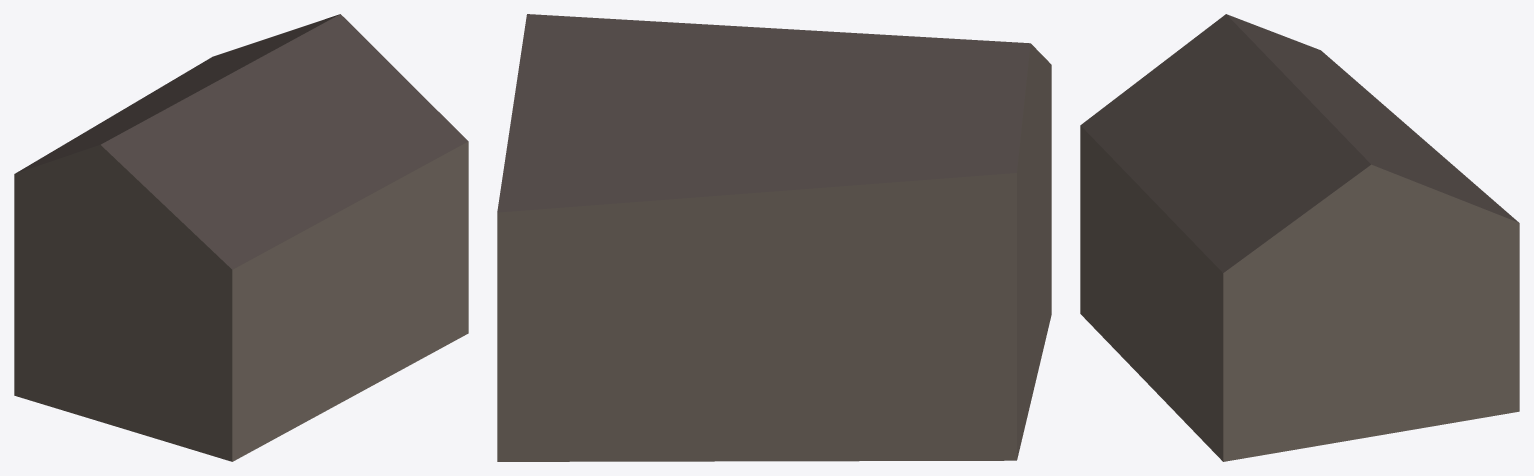
3 renders of one model, left to right at view 1: azimuth 30°, elevation 25°; view 2: azimuth 150°, elevation 25°; view 3: azimuth 270°, elevation 25°, orthographic. The views are drawn at different scales.
Visible parts, largest first — view 1: HP-w1515076953; view 2: HP-w1515076953; view 3: HP-w1515076953.
Part boxes in pixels (box(x1,y1,x2,y2)): HP-w1515076953: box(14, 14, 468, 461); HP-w1515076953: box(497, 14, 1051, 461); HP-w1515076953: box(1080, 14, 1519, 461).
Size of the model in its own units: 13.22 by 8.66 by 12.65.
